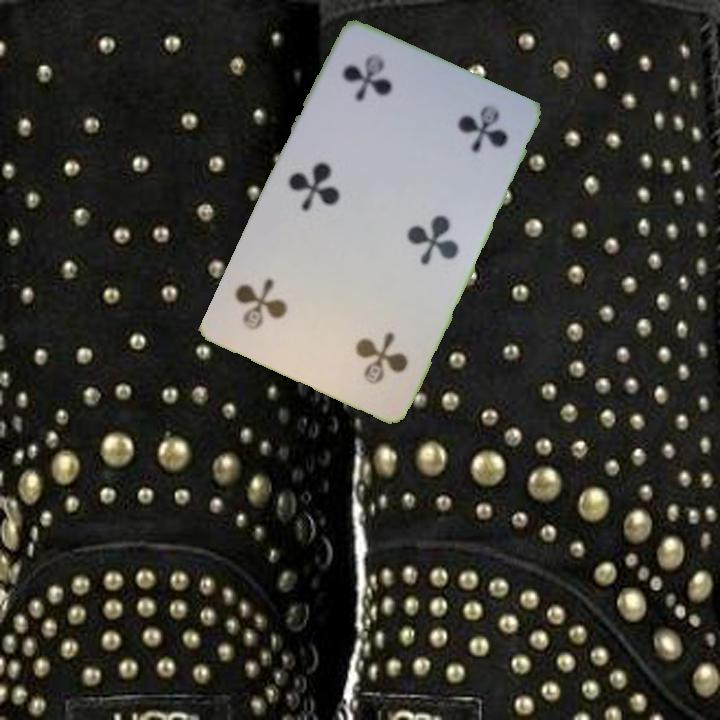c_6.png: (316, 36, 441, 154), (303, 289, 428, 407)
